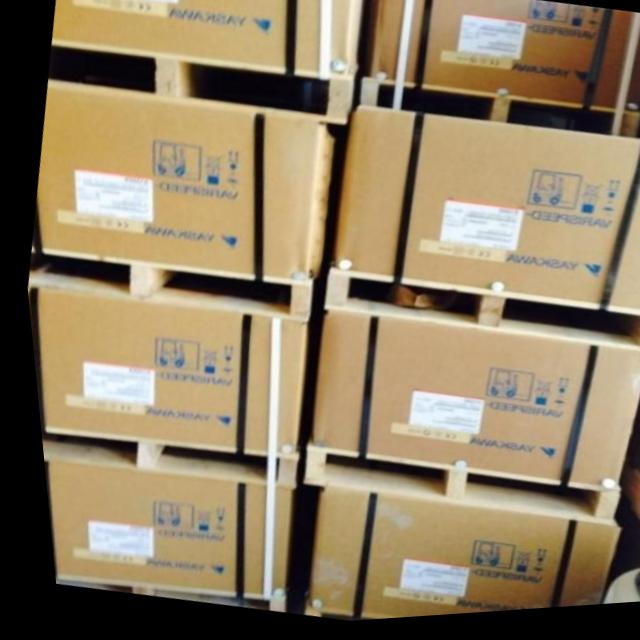box: (328, 109, 640, 318), (32, 79, 332, 290), (303, 314, 640, 501), (22, 287, 301, 457), (295, 493, 608, 622), (35, 460, 282, 598), (366, 0, 640, 121), (51, 0, 363, 80)
